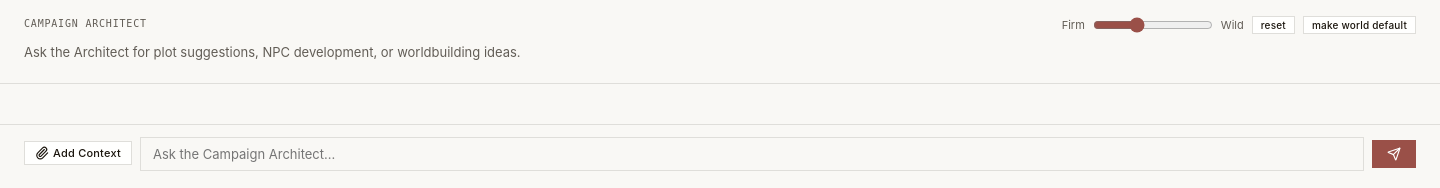
Test: AiView › saves the session temperature as the world default via confirm-first affordance
Note: Affordance shows the confirm step, not a modal.
Step 1. Click the button with test id "make-world-default" → (1359, 25), box 1303,16 -> 1416,34
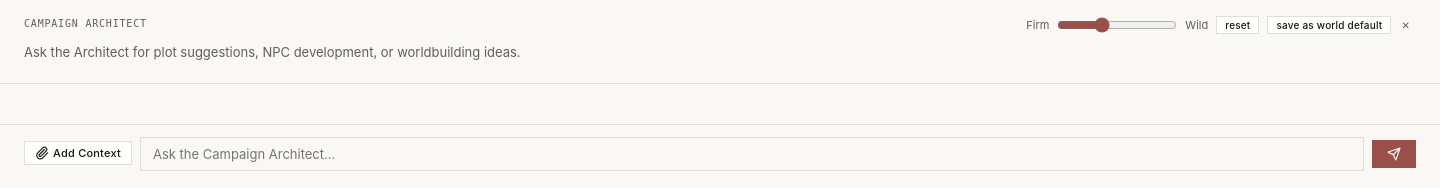
Expected: the button with test id "confirm-world-default" reads "save as world default"
Step 2. Click the button with test id "confirm-world-default" → (1329, 25), box 1268,16 -> 1391,34
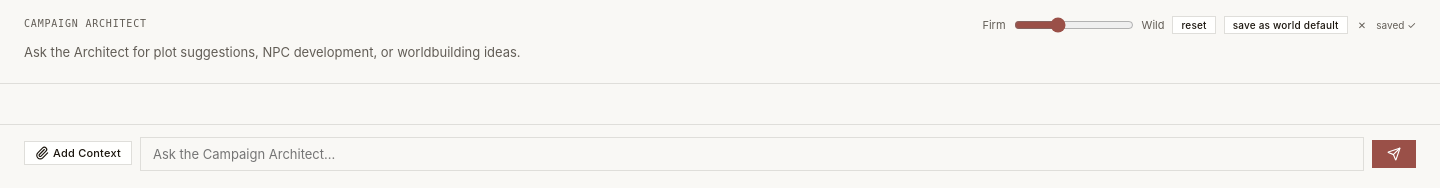
Expected: the text "saved ✓" is shown, 1376,18 -> 1416,32
